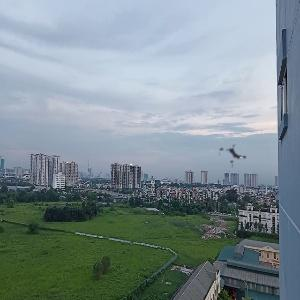drone: (209, 132, 259, 182)
